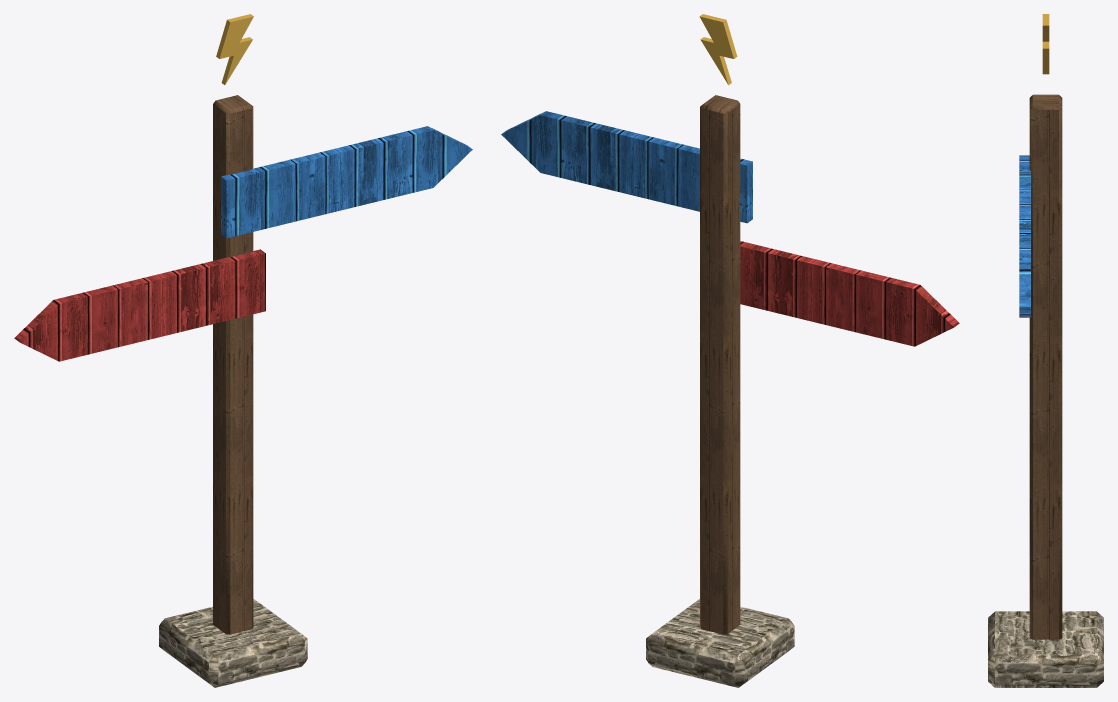
Rendered from infra_signpost.glb.
3 views of the same model, side by side, from view 1: azimuth 30°, elevation 25°; view 2: azimuth 150°, elevation 25°; view 3: azimuth 270°, elevation 25° (orthographic).
Visible parts, largest first — view 1: wood_dark, azure_wood, red_wood, stone, gold; view 2: wood_dark, red_wood, azure_wood, stone, gold; view 3: wood_dark, stone, azure_wood, gold.
Boxes of the visible parts, box(x1,y1,x2,y2) form: wood_dark: box(213, 95, 253, 634); azure_wood: box(221, 126, 472, 238); red_wood: box(14, 249, 265, 361); stone: box(159, 599, 307, 687); gold: box(216, 14, 253, 84); wood_dark: box(700, 95, 740, 634); red_wood: box(740, 241, 959, 346); azure_wood: box(501, 111, 752, 223); stone: box(646, 599, 794, 687); gold: box(699, 14, 737, 85); wood_dark: box(1029, 94, 1062, 639); stone: box(988, 611, 1103, 687); azure_wood: box(1019, 155, 1030, 316); gold: box(1042, 14, 1049, 74).
Size of the model in its own units: 2.3 by 3.1 by 0.5.
Materials: 5 (4 with a texture image).
